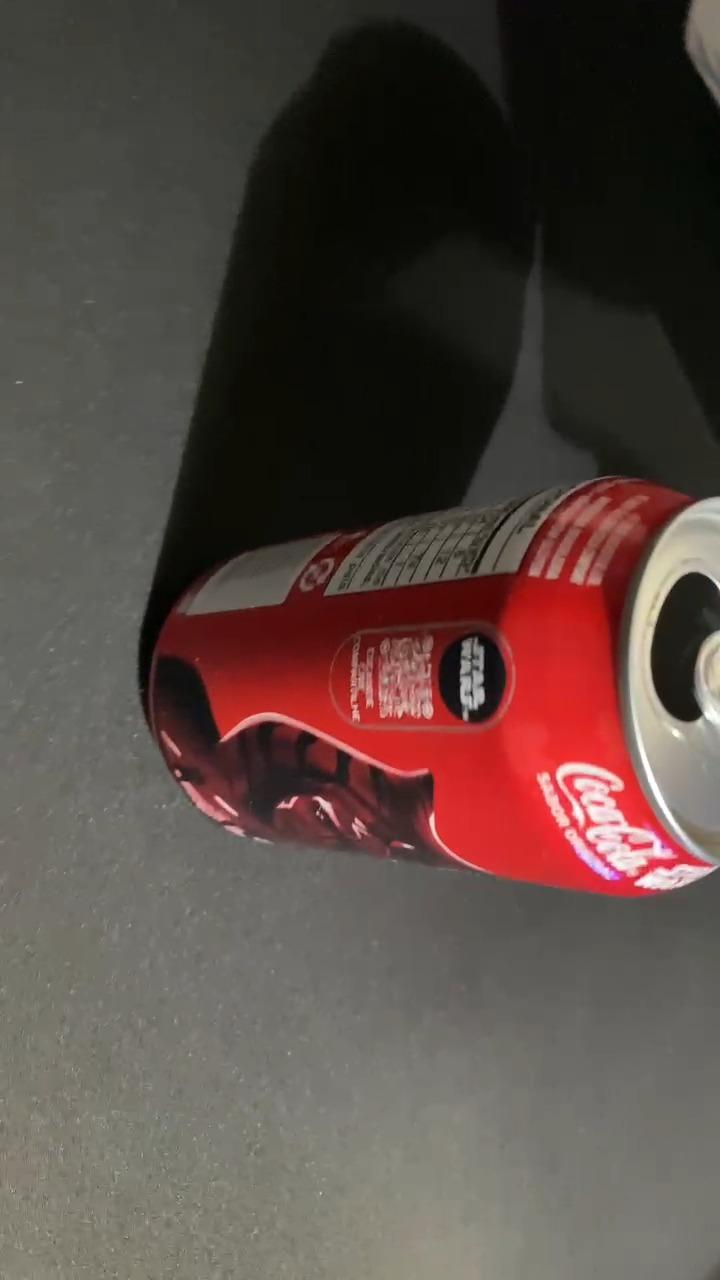coke: (145, 479, 720, 896)
